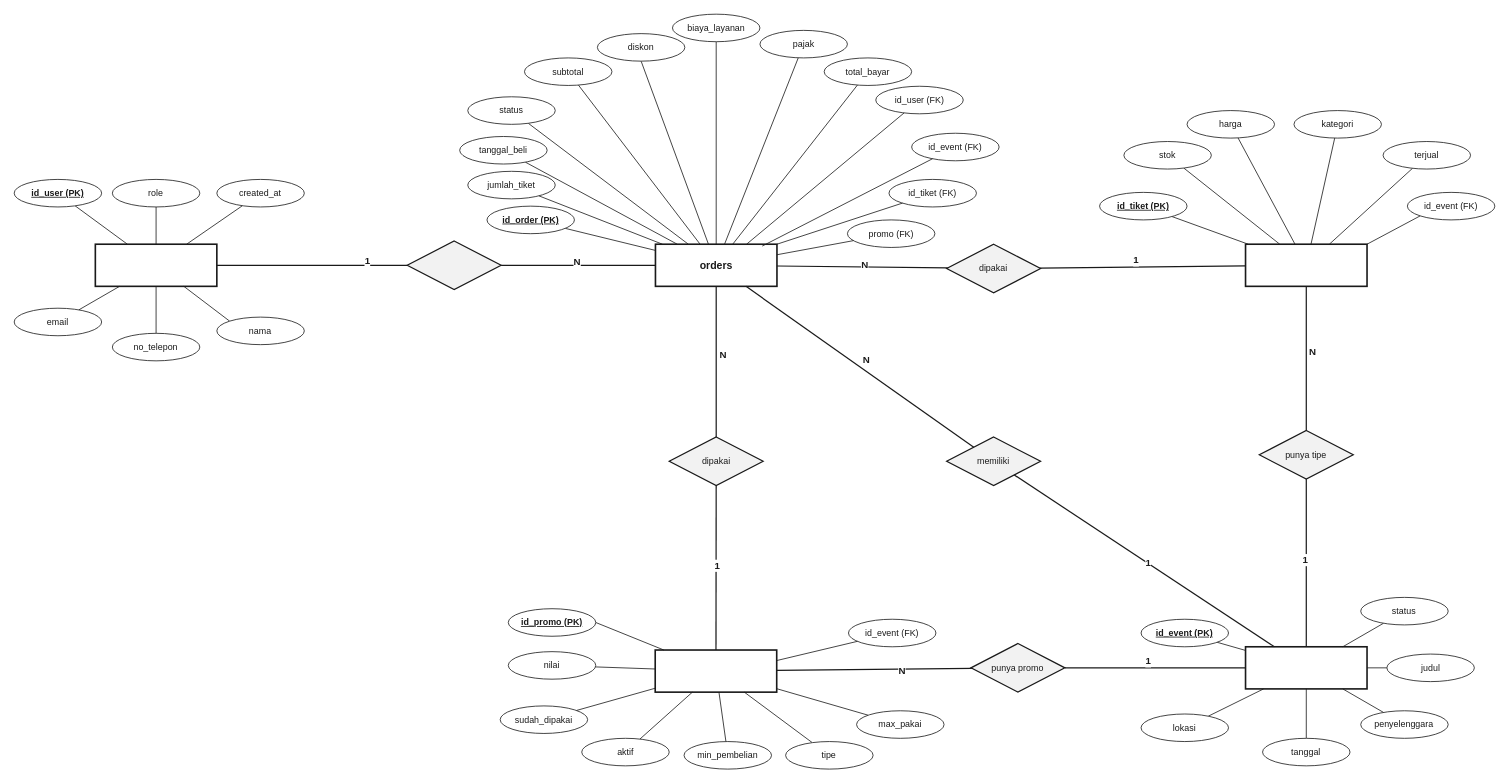
Some shapes in this 1509 by 783 pixel diagram are drawn without their labels. Here are the shapes that lost their labels. From the top down, the centre of each, then its label:
the point at 155,265: users
the point at 453,265: membuat
the point at 1305,265: tickets
the point at 715,671: promo
the point at 1305,667: events
